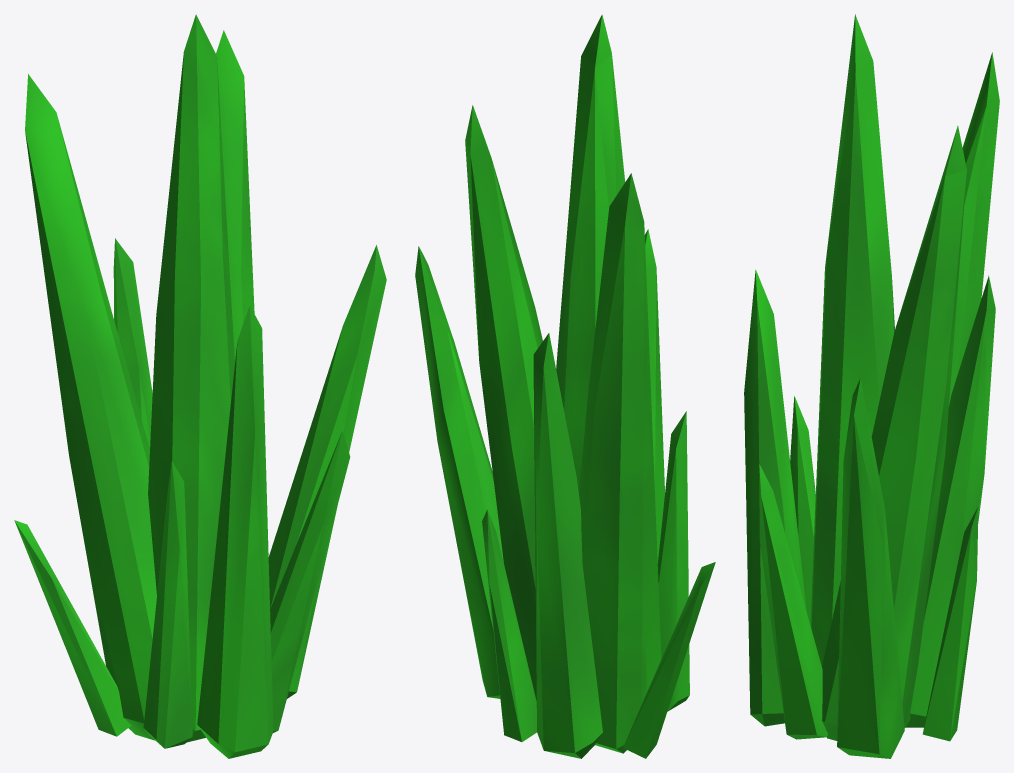
Rendered from Grass2.obj.
3 views of the same model, side by side, from view 1: azimuth 30°, elevation 25°; view 2: azimuth 150°, elevation 25°; view 3: azimuth 270°, elevation 25° (orthographic).
Parts seen in each view (by area): view 1: Grass2; view 2: Grass2; view 3: Grass2.
Boxes of the visible parts, box(x1,y1,x2,y2) form: Grass2: box(14, 14, 386, 758); Grass2: box(415, 14, 715, 758); Grass2: box(744, 14, 999, 758).
Bounding box in the file's own units: 0.2014 × 0.4119 × 0.1328.
1 material, 1 textured.
